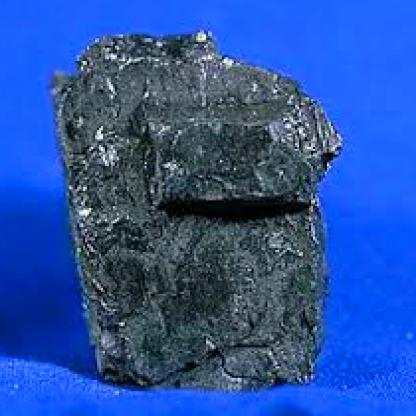Sedimentary_coal: (53, 21, 361, 401)
